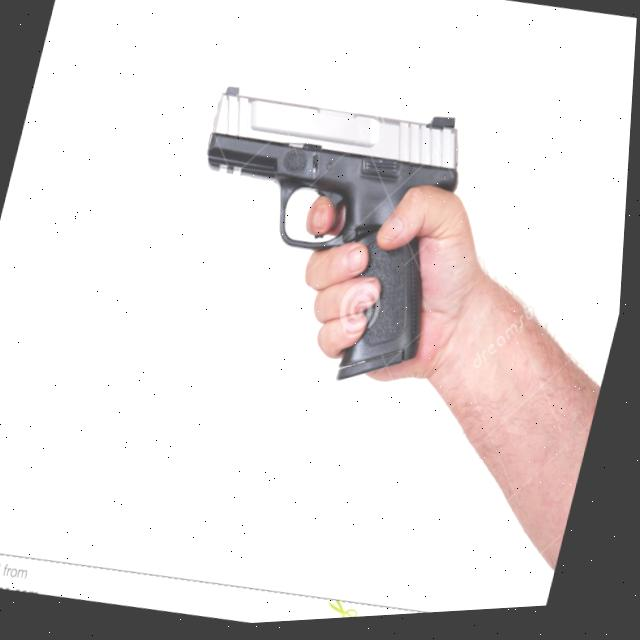pistol: (151, 69, 484, 414)
